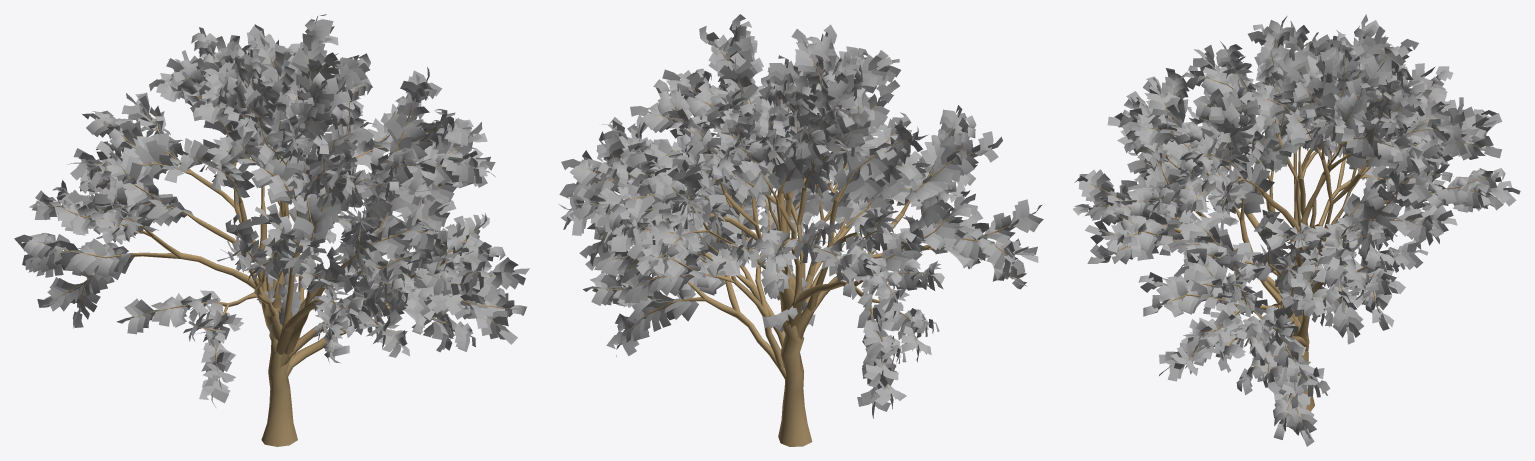
The model's file is Tree_01.fbx.
The picture shows the model from 3 angles, left to right: view 1: azimuth 30°, elevation 25°; view 2: azimuth 150°, elevation 25°; view 3: azimuth 270°, elevation 25°; orthographic projection. The views are drawn at different scales.
Parts seen in each view (by area): view 1: oakAutumn2Leaf, oakAutumn2Main; view 2: oakAutumn2Leaf, oakAutumn2Main; view 3: oakAutumn2Leaf, oakAutumn2Main.
Part boxes in pixels (x1,y1,x2,y2): oakAutumn2Leaf: (14,14,529,407); oakAutumn2Main: (37,32,509,446); oakAutumn2Leaf: (559,14,1043,418); oakAutumn2Main: (574,41,1019,446); oakAutumn2Leaf: (1073,14,1520,446); oakAutumn2Main: (1090,34,1498,423).
Bounding box in the file's own units: 4.54 × 4.1 × 4.5.
